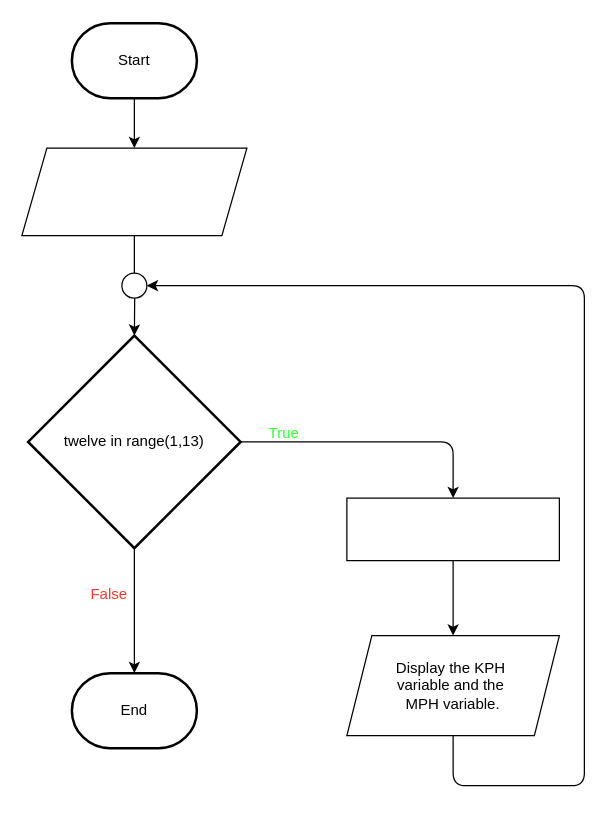
Some shapes in this 616 by 818 pixel diagram are drawn without their labels. Here are the shapes that lost their labels. From the top down, the centre of each, then its label:
At pixel 134 191: "Display Table Headings".
At pixel 452 529: "MPH = KPH*0.6214".
